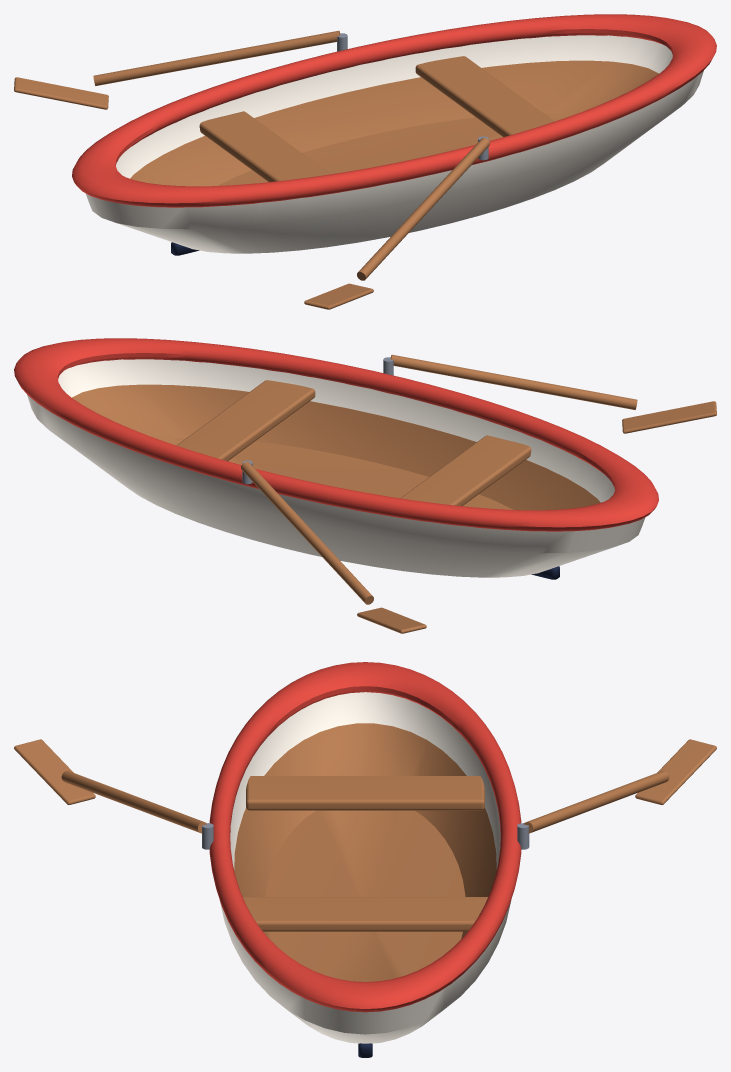
The model's file is rowboat.glb.
The picture shows the model from 3 angles, top to bottom: view 1: azimuth 30°, elevation 25°; view 2: azimuth 150°, elevation 25°; view 3: azimuth 270°, elevation 25°; orthographic projection. The views are drawn at different scales.
Parts seen in each view (by area): view 1: rowboat; view 2: rowboat; view 3: rowboat.
Boxes of the visible parts, box(x1,y1,x2,y2) form: rowboat: box(14, 14, 716, 309); rowboat: box(14, 338, 716, 633); rowboat: box(14, 662, 716, 1057).
Size of the model in its own units: 3.41 by 0.5745 by 2.94.
Materials: 1 (1 with a texture image).
